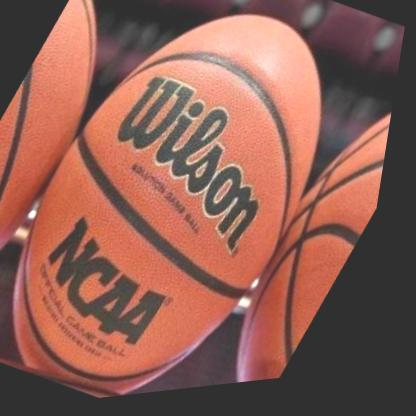basketball: (0, 0, 404, 415), (195, 69, 403, 394), (0, 0, 158, 346)
